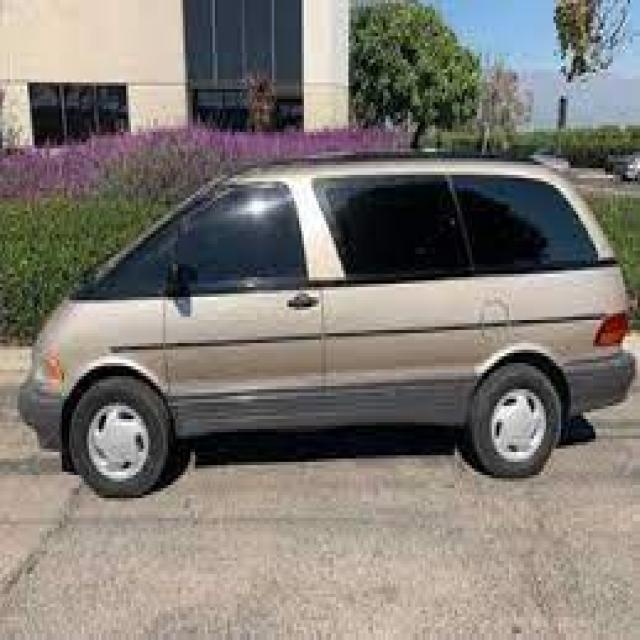Van: (32, 155, 625, 498)
